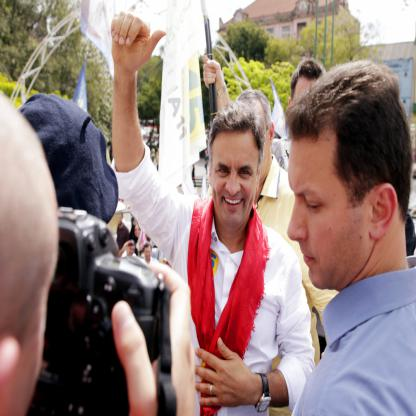Camera: (40, 223, 175, 374)
